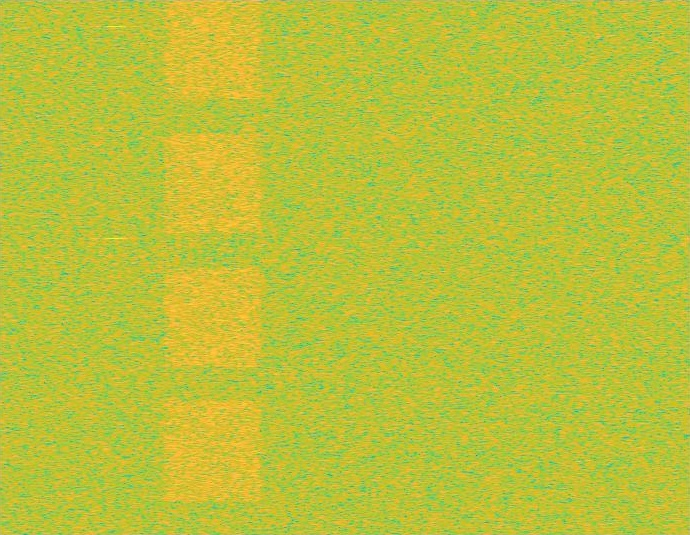5G: (162, 0, 265, 534)
Radar: (109, 0, 123, 534)
